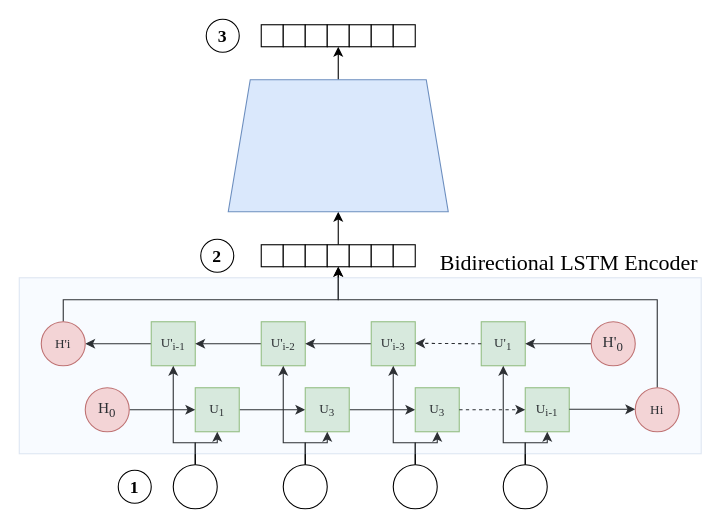
This 721x528 diagram has some shape labels left out. Here are the shapes that lost their labels. From the top down, the box of each, then its label:
(227, 79, 448, 212): Softmax MLP
(172, 464, 217, 509): E 1
(282, 464, 327, 509): E 2
(392, 464, 437, 509): E 3
(502, 464, 547, 509): E n
